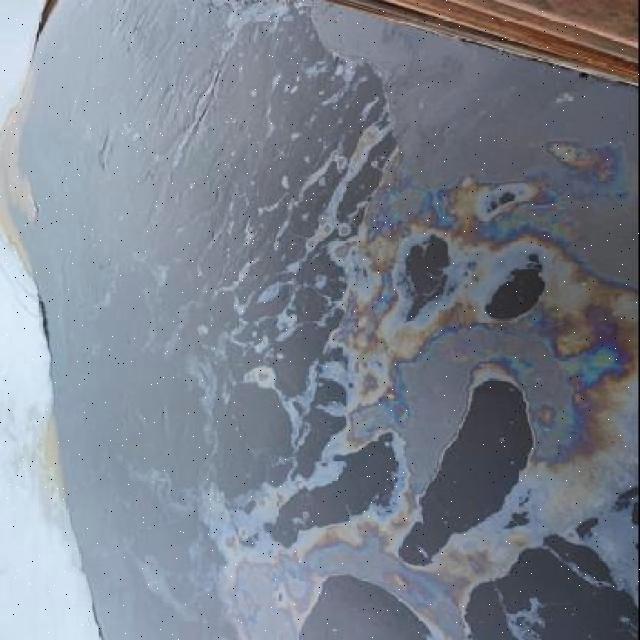oil: (186, 10, 624, 627)
